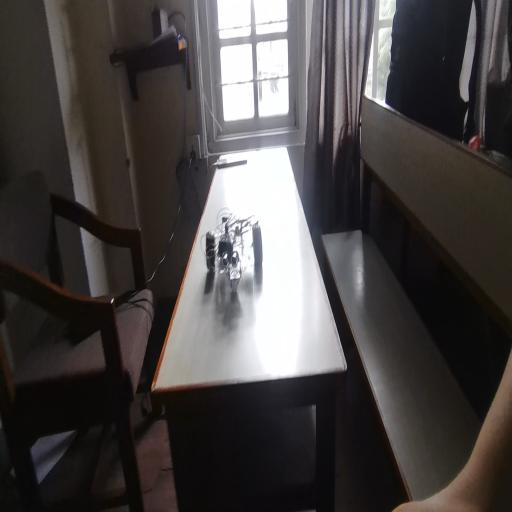car: (200, 205, 298, 292)
